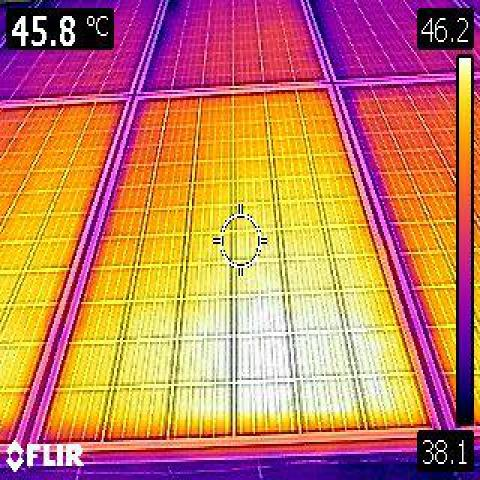fault: (185, 302, 381, 411)
